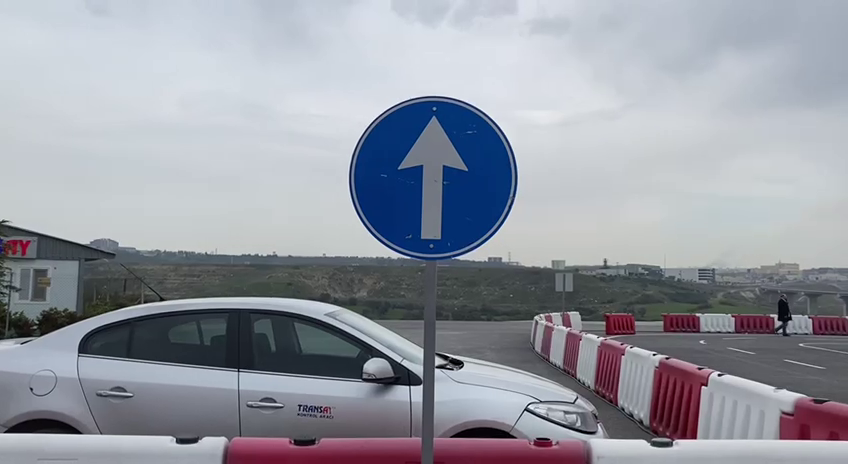forward: (341, 88, 523, 266)
